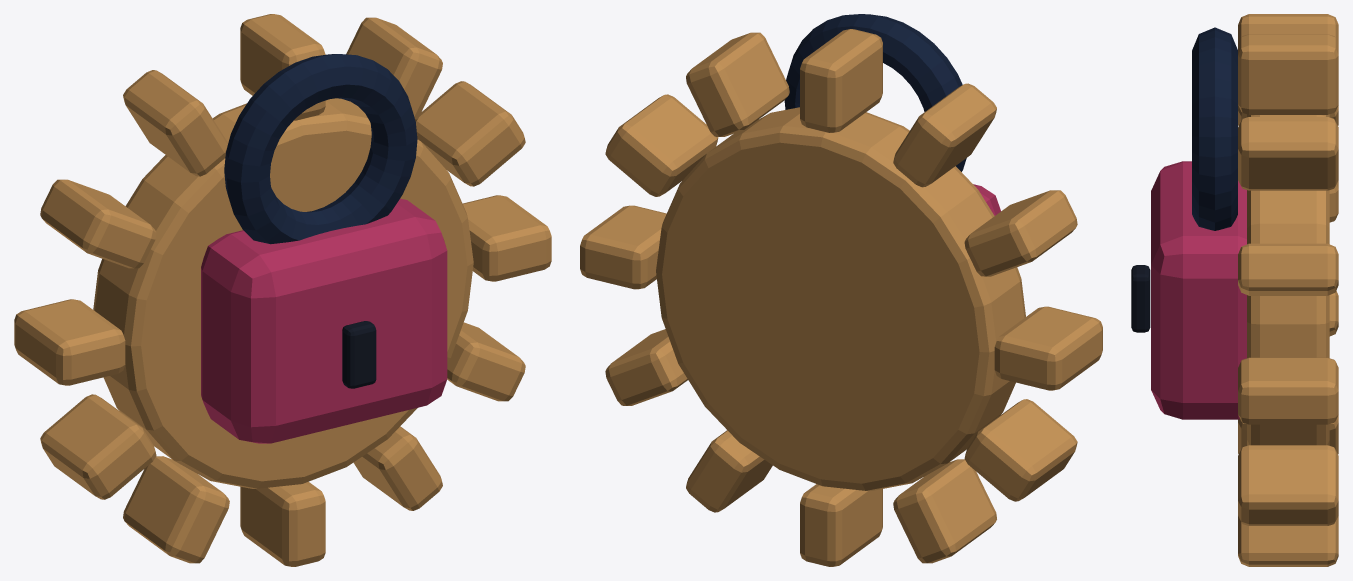
Rendered from Item_lock_reel.fbx.
The picture shows the model from 3 angles, left to right: view 1: azimuth 30°, elevation 25°; view 2: azimuth 150°, elevation 25°; view 3: azimuth 270°, elevation 25°; orthographic projection. The views are drawn at different scales.
Parts seen in each view (by area): view 1: Item_lock_reel.Mesh; view 2: Item_lock_reel.Mesh; view 3: Item_lock_reel.Mesh.
Boxes of the visible parts, bbox=[...] form: Item_lock_reel.Mesh: bbox=[14, 14, 551, 566]; Item_lock_reel.Mesh: bbox=[580, 14, 1102, 566]; Item_lock_reel.Mesh: bbox=[1131, 14, 1338, 566].
Size of the model in its own units: 60.32 by 60.66 by 22.65.
